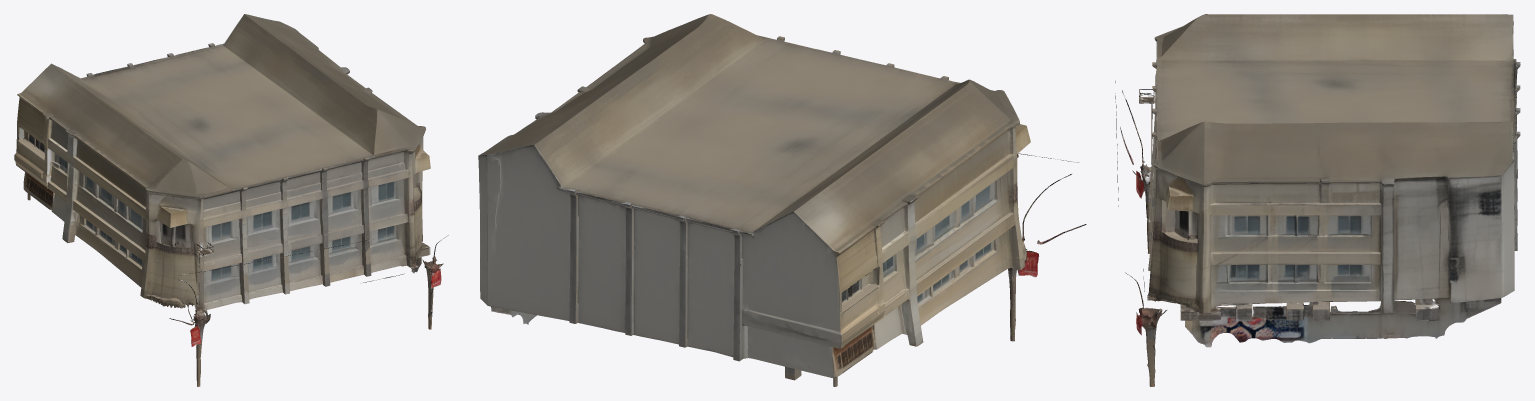
File: base_basic_pbr.fbx
The picture shows the model from 3 angles, left to right: view 1: azimuth 30°, elevation 25°; view 2: azimuth 150°, elevation 25°; view 3: azimuth 270°, elevation 25°; orthographic projection. The views are drawn at different scales.
Visible parts, largest first — view 1: model; view 2: model; view 3: model.
Boxes of the visible parts, <box> form: model: <box>14,14,448,386</box>; model: <box>478,14,1086,386</box>; model: <box>1115,14,1520,386</box>.
Size of the model in its own units: 182 by 125 by 185.
Materials: 1 (1 with a texture image).
